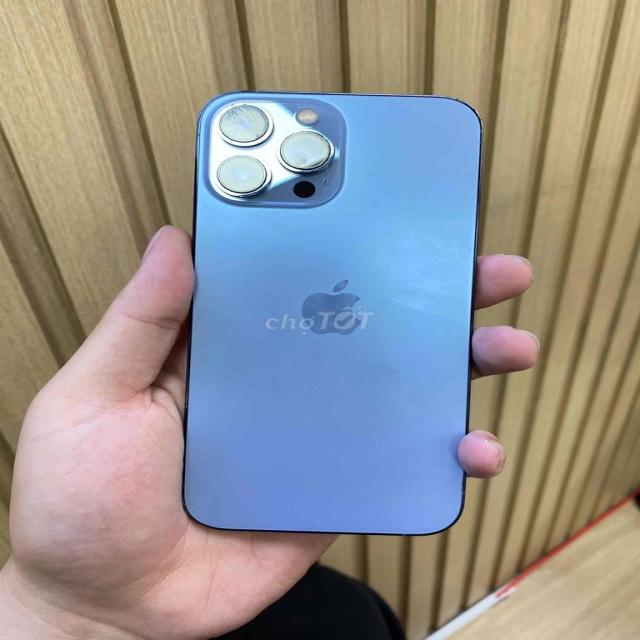gen_12_13: (172, 82, 477, 546)
